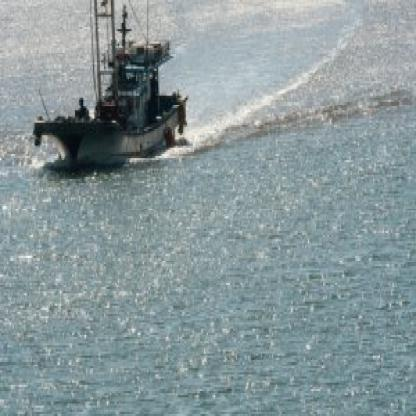fish-b: (26, 2, 198, 183)
